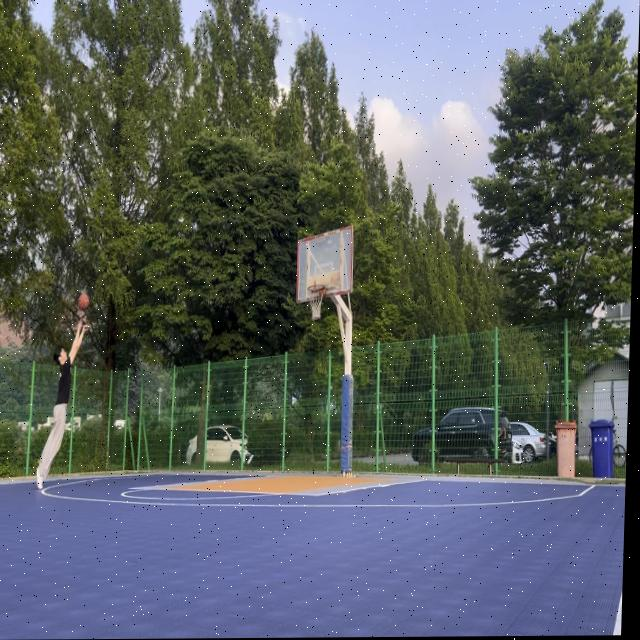basketball: (77, 293, 91, 312)
hoop: (306, 284, 326, 320)
